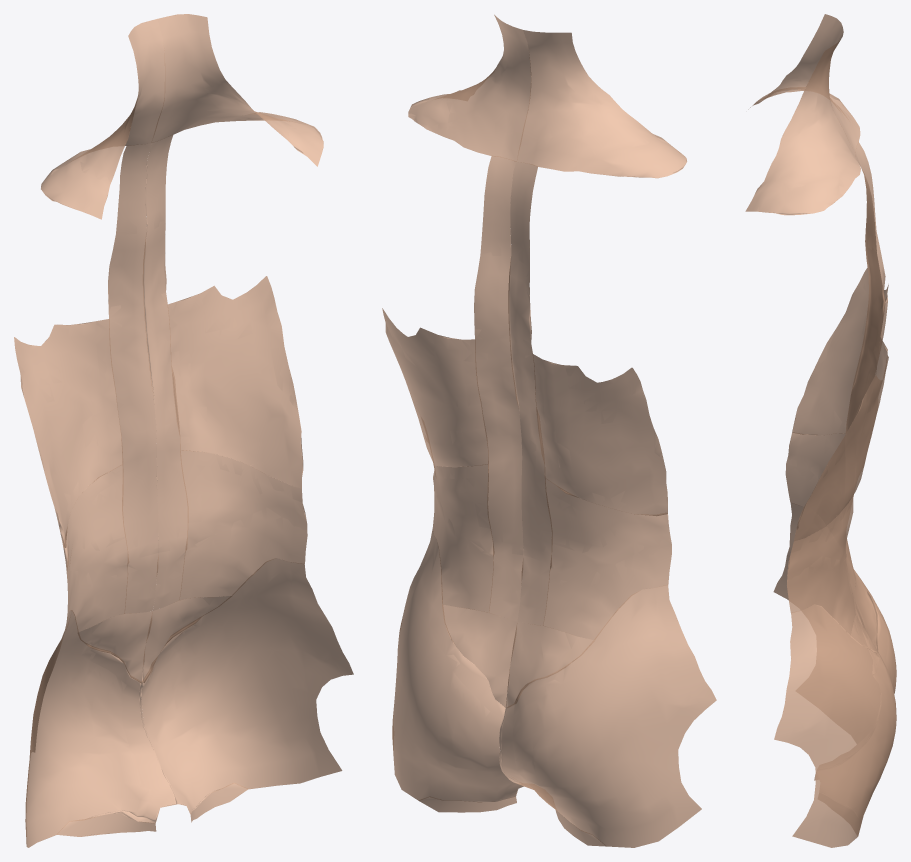
The model's file is regions.back.glb.
The picture shows the model from 3 angles, left to right: view 1: azimuth 30°, elevation 25°; view 2: azimuth 150°, elevation 25°; view 3: azimuth 270°, elevation 25°; orthographic projection. The views are drawn at different scales.
Visible parts, largest first — view 1: left_gluteal_region, right_gluteal_region, left_infrascapular_region, right_vertebral_region, right_infrascapular_region, left_lumbar_region, left_vertebral_region, left_posterior_region_of_neck, right_lumbar_region, right_posterior_region_of_neck, right_sacral_region, left_sacral_region (+2 smaller); view 2: right_gluteal_region, left_gluteal_region, right_infrascapular_region, left_vertebral_region, right_posterior_region_of_neck, right_lumbar_region, right_vertebral_region, left_infrascapular_region, left_posterior_region_of_neck, left_lumbar_region, left_sacral_region, right_sacral_region (+1 smaller); view 3: left_gluteal_region, left_posterior_region_of_neck, right_infrascapular_region, left_lumbar_region, left_infrascapular_region, left_vertebral_region, right_lumbar_region, right_posterior_region_of_neck, right_gluteal_region, right_vertebral_region, right_sacral_region, left_sacral_region.
Part boxes in pixels (left/top/right/bottom): left_gluteal_region: left=141, top=558, right=353, bottom=814; right_gluteal_region: left=25, top=610, right=177, bottom=847; left_infrascapular_region: left=167, top=276, right=303, bottom=488; right_vertebral_region: left=108, top=143, right=158, bottom=613; right_infrascapular_region: left=14, top=319, right=122, bottom=548; left_lumbar_region: left=179, top=450, right=307, bottom=600; left_vertebral_region: left=143, top=135, right=188, bottom=610; left_posterior_region_of_neck: left=151, top=14, right=323, bottom=166; right_lumbar_region: left=63, top=464, right=128, bottom=632; right_posterior_region_of_neck: left=41, top=18, right=164, bottom=219; right_sacral_region: left=77, top=611, right=152, bottom=683; left_sacral_region: left=142, top=596, right=231, bottom=682; right_gluteal_region: left=499, top=585, right=716, bottom=847; left_gluteal_region: left=392, top=528, right=523, bottom=802; right_infrascapular_region: left=533, top=354, right=667, bottom=516; left_vertebral_region: left=474, top=155, right=523, bottom=621; right_posterior_region_of_neck: left=517, top=30, right=687, bottom=178; right_lumbar_region: left=543, top=478, right=671, bottom=639; right_vertebral_region: left=508, top=162, right=552, bottom=625; left_infrascapular_region: left=382, top=308, right=488, bottom=467; left_posterior_region_of_neck: left=408, top=14, right=531, bottom=161; left_lumbar_region: left=432, top=462, right=494, bottom=612; left_sacral_region: left=442, top=604, right=517, bottom=707; right_sacral_region: left=505, top=622, right=594, bottom=707; left_gluteal_region: left=774, top=604, right=896, bottom=847; left_posterior_region_of_neck: left=745, top=32, right=860, bottom=215; right_infrascapular_region: left=792, top=267, right=888, bottom=435; left_lumbar_region: left=787, top=494, right=855, bottom=635; left_infrascapular_region: left=794, top=337, right=888, bottom=541; left_vertebral_region: left=845, top=154, right=885, bottom=601; right_lumbar_region: left=785, top=433, right=855, bottom=580; right_posterior_region_of_neck: left=748, top=14, right=860, bottom=153; right_gluteal_region: left=773, top=503, right=896, bottom=693; right_vertebral_region: left=846, top=142, right=885, bottom=597; right_sacral_region: left=854, top=570, right=878, bottom=651; left_sacral_region: left=850, top=599, right=877, bottom=651.
Bounding box in the file's own units: 0.3168 × 0.7674 × 0.1371.
